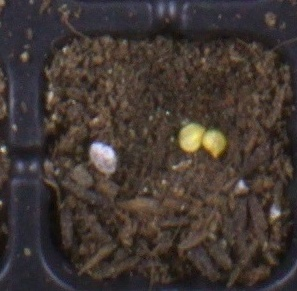chilli seed: (178, 122, 206, 153), (201, 128, 226, 159)
